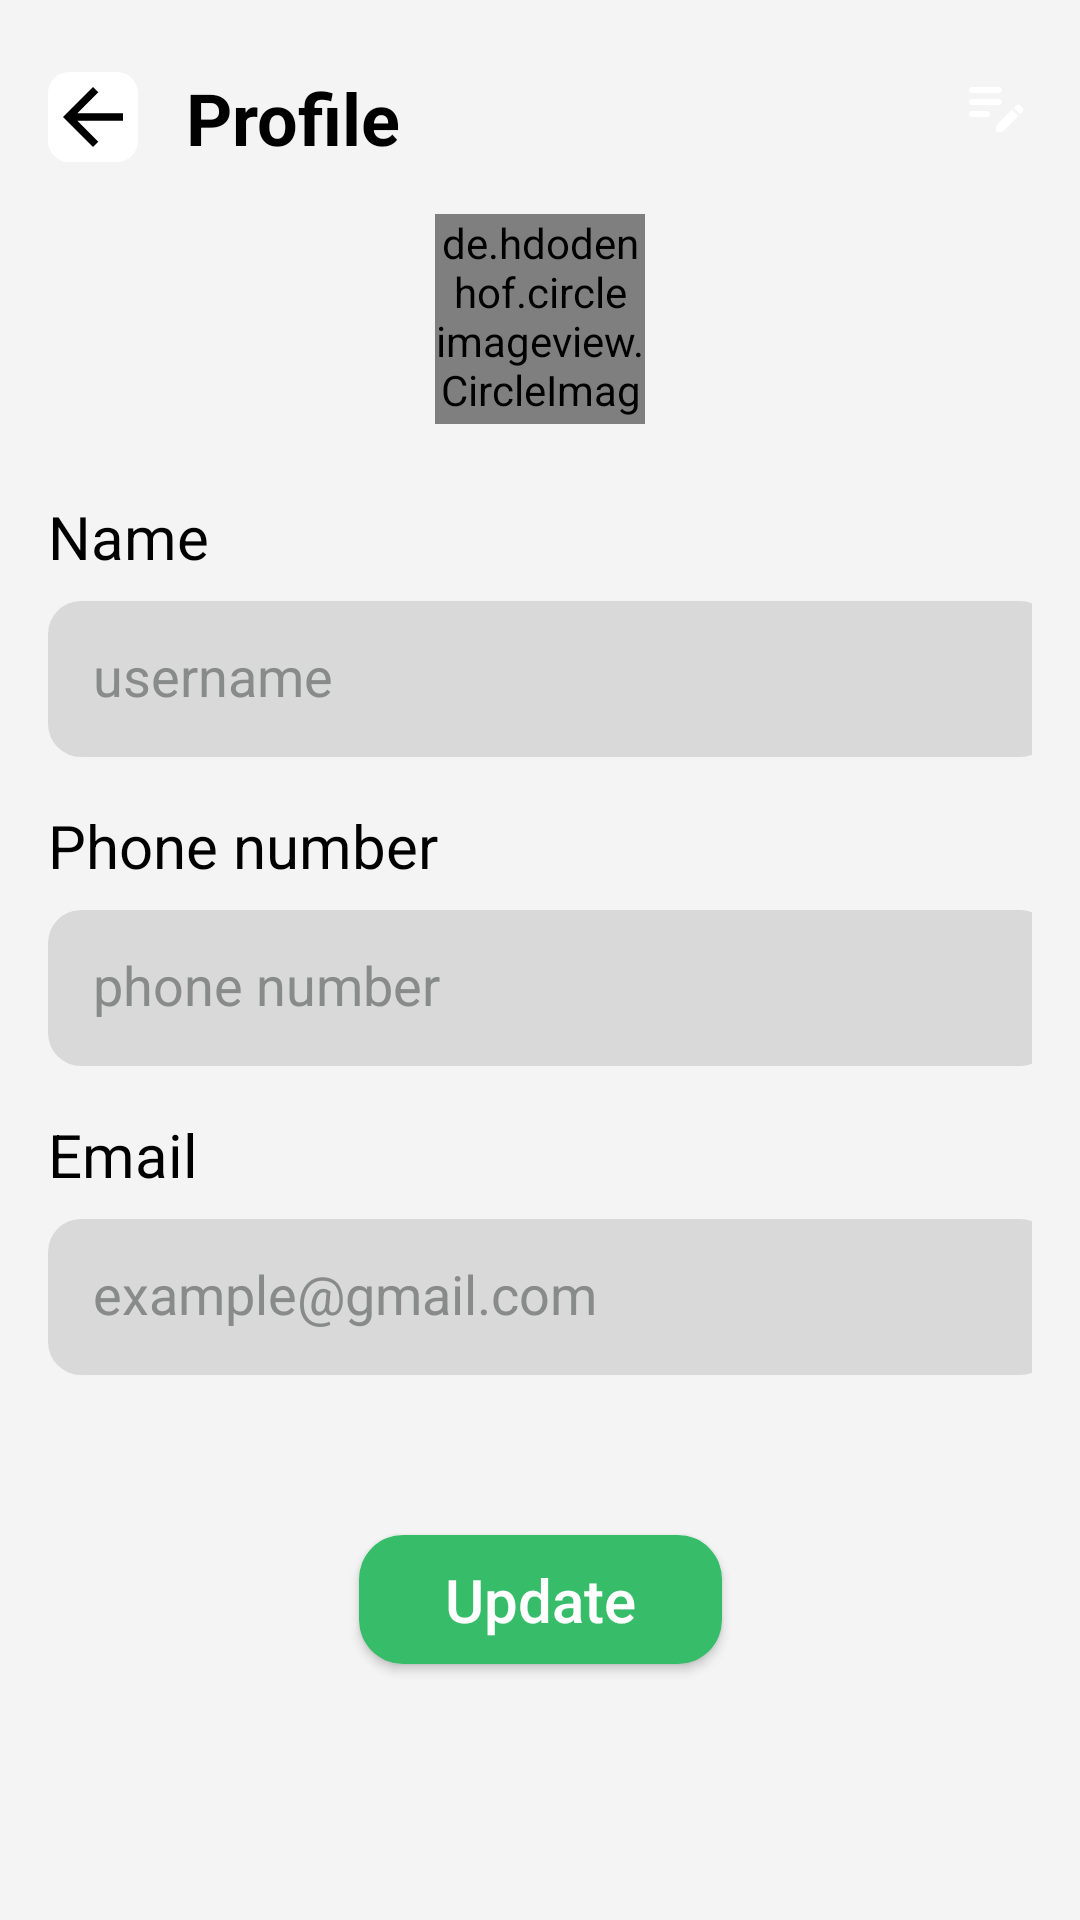

Where to tap for icons on this 1080 × 1920 app screen, as point (x, y):
back: point (93, 117)
